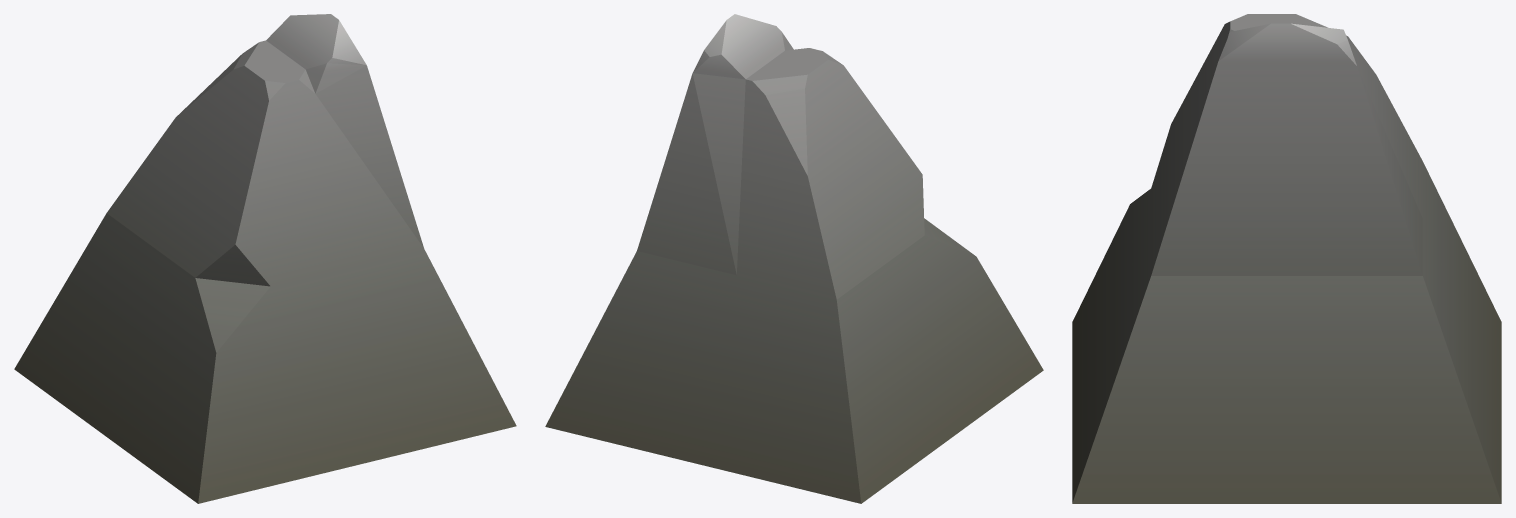
File: Mountain_05.fbx
3 renders of one model, left to right at view 1: azimuth 30°, elevation 25°; view 2: azimuth 150°, elevation 25°; view 3: azimuth 270°, elevation 25°, orthographic. The views are drawn at different scales.
Parts seen in each view (by area): view 1: Mountain_05; view 2: Mountain_05; view 3: Mountain_05.
Boxes of the visible parts, x1=… form: Mountain_05: x1=14, y1=14, x2=516, y2=503; Mountain_05: x1=545, y1=14, x2=1043, y2=503; Mountain_05: x1=1072, y1=14, x2=1501, y2=503.
Size of the model in its own units: 1457 by 1601 by 1457.
